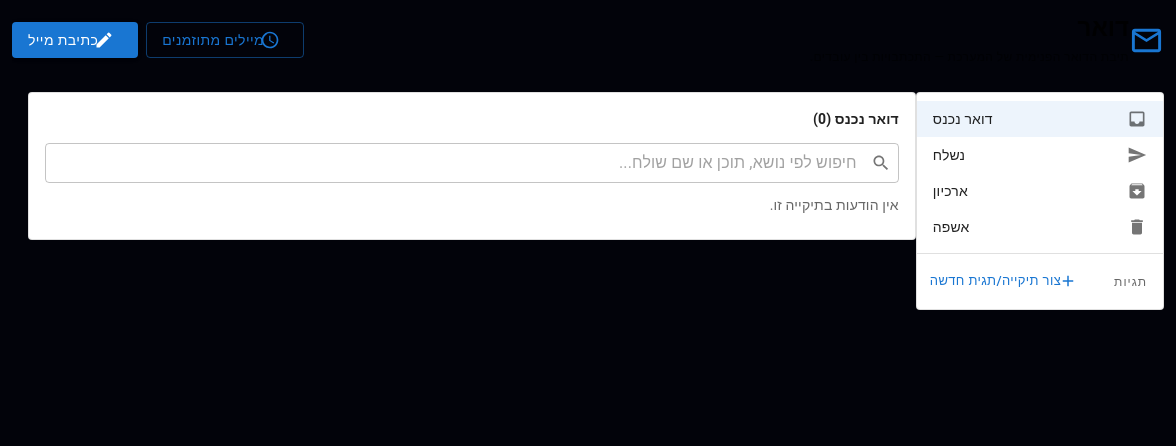
it: Emails › read receipts › does not show the icon (or fetch tracking) when the message did not request a read receipt
The image size is (1176, 446).
Click the button with test id "email-folder-SENT".
click(949, 155)  # box [933,145,1147,165]
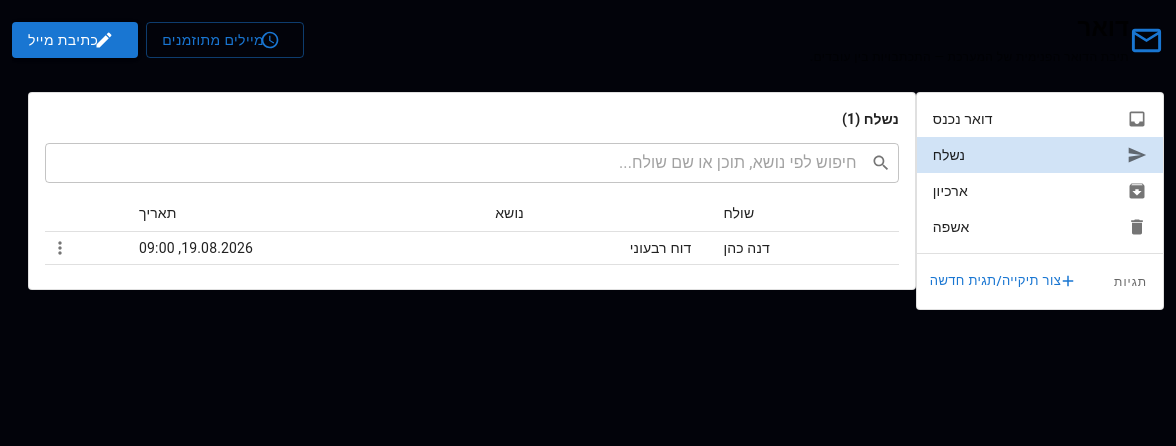
Click the row with test id "email-row-30".
click(472, 248)  # box [45,232,899,264]
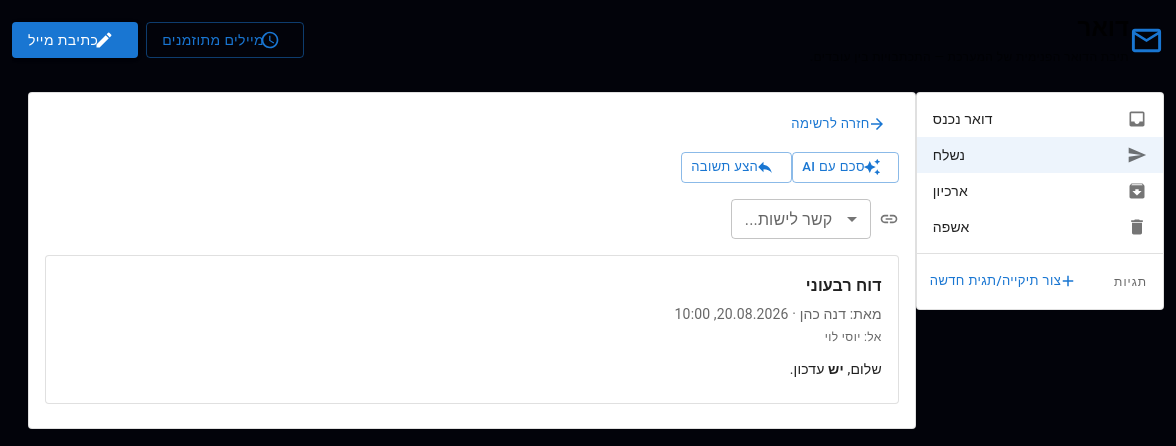
Now the button "סכם עם AI" is shown, box [792,152,899,183]
